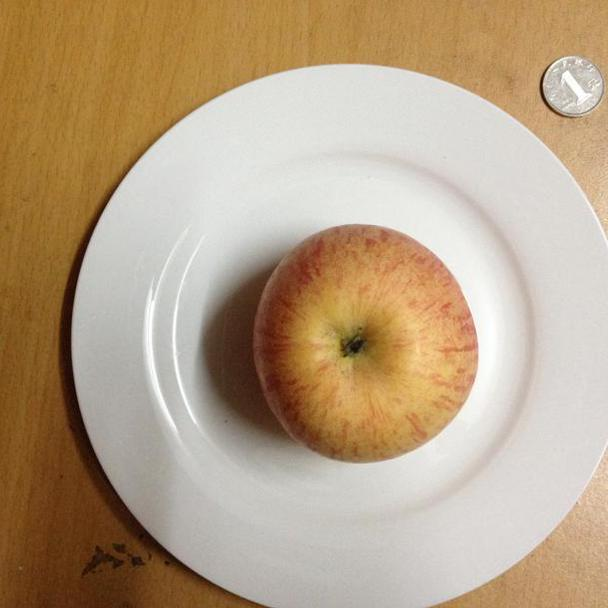apple: (252, 223, 479, 464)
